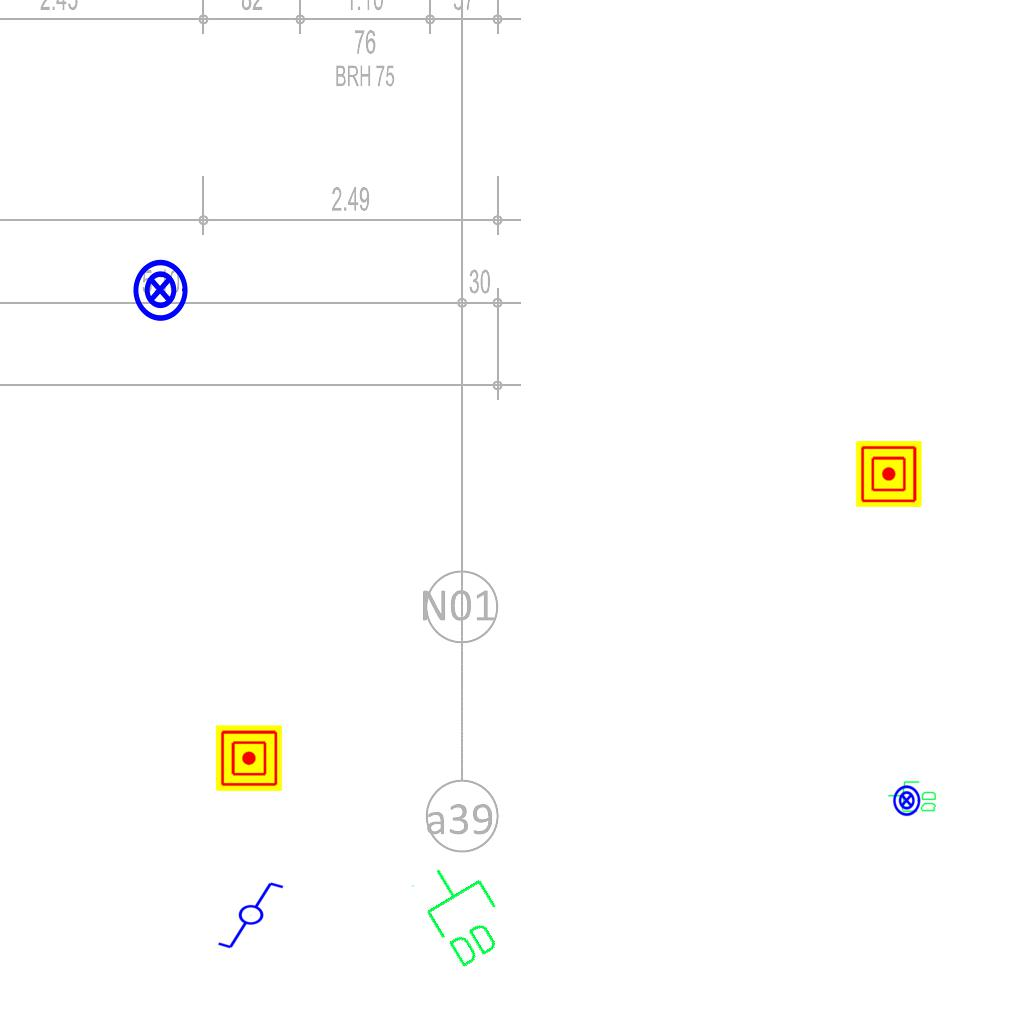Datenanschluss_zweifach: (406, 850, 519, 975), (886, 778, 939, 816)
NAM-Nichtautomatischer_Melder: (216, 725, 282, 791), (856, 441, 922, 507)
Taster_beleuchtet: (127, 257, 193, 323), (890, 784, 923, 817)
Wechselschalter: (216, 880, 294, 952)
